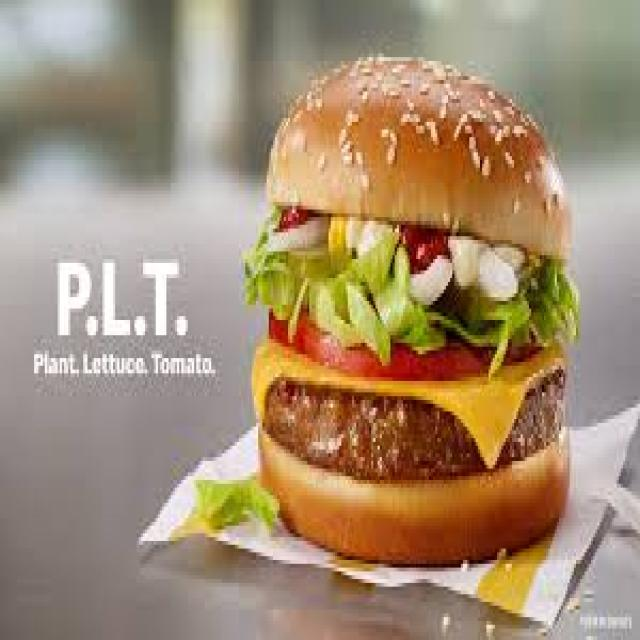햄버거: (252, 59, 582, 572)
